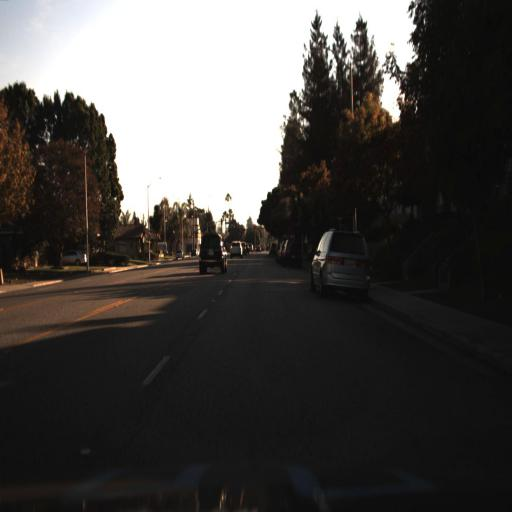car: (307, 222, 371, 293), (196, 230, 230, 274), (60, 246, 90, 266), (226, 240, 244, 260), (174, 248, 184, 264)
